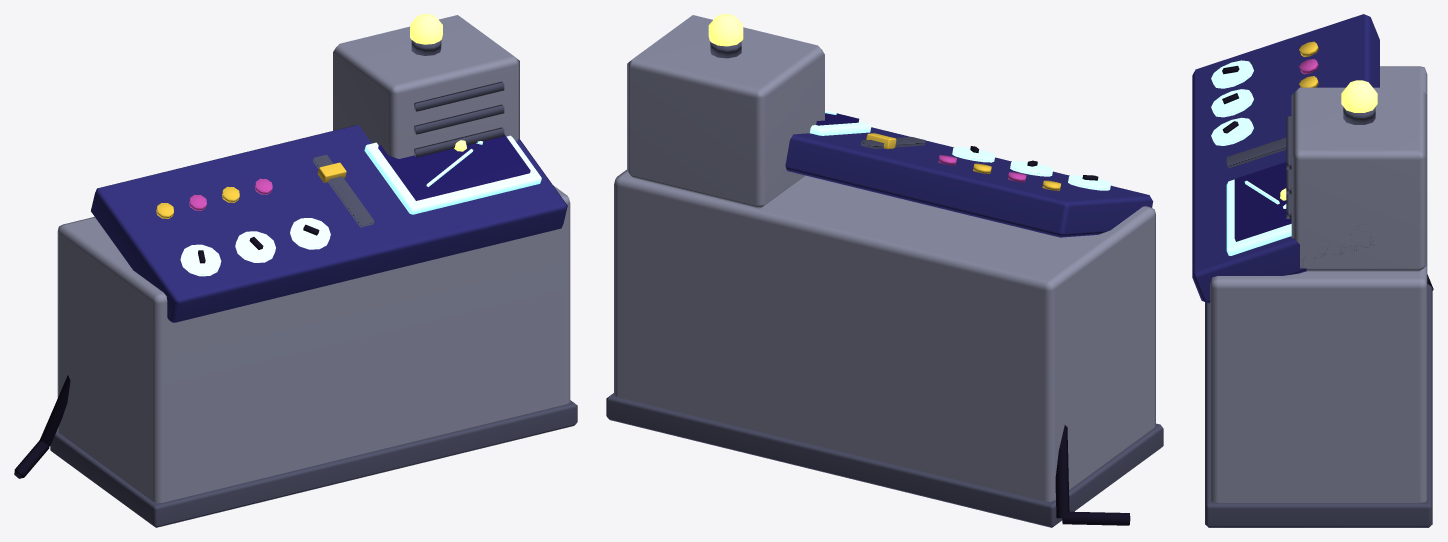
The model's file is lab_machine.glb.
The picture shows the model from 3 angles, left to right: view 1: azimuth 30°, elevation 25°; view 2: azimuth 150°, elevation 25°; view 3: azimuth 270°, elevation 25°; orthographic projection. The views are drawn at different scales.
Visible parts, largest first — view 1: Machine; view 2: Machine; view 3: Machine.
Part boxes in pixels (left/top/right/bottom): Machine: left=14, top=14, right=577, bottom=527; Machine: left=606, top=14, right=1163, bottom=527; Machine: left=1192, top=14, right=1433, bottom=527.
Bounding box in the file's own units: 2.18 × 1.65 × 0.89.
